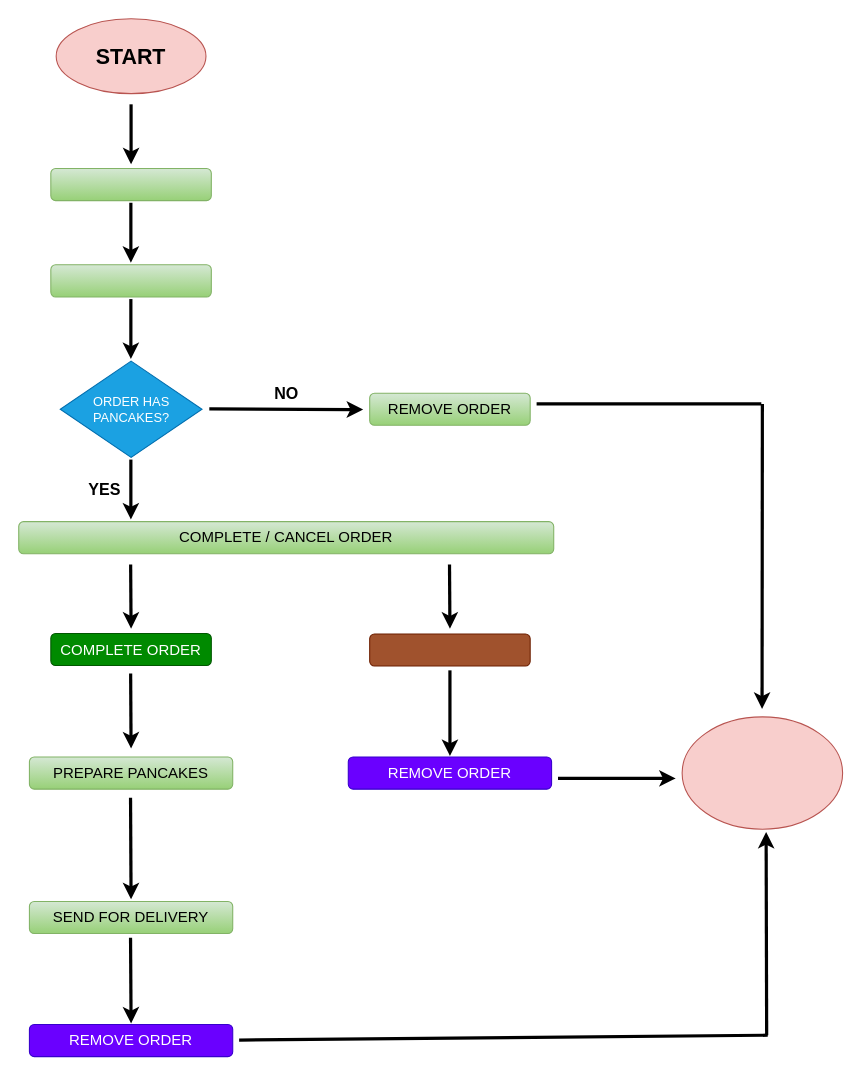
Some shapes in this 861 by 1075 pixel diagram are drawn without their labels. Here are the shapes that lost their labels. From the top down, the centre of each, then its label:
At (130,184): "CREATE ORDER".
At (130,280): "ADD PANCAKES".
At (449,649): "CANCEL ORDER".
At (762,772): "END".
